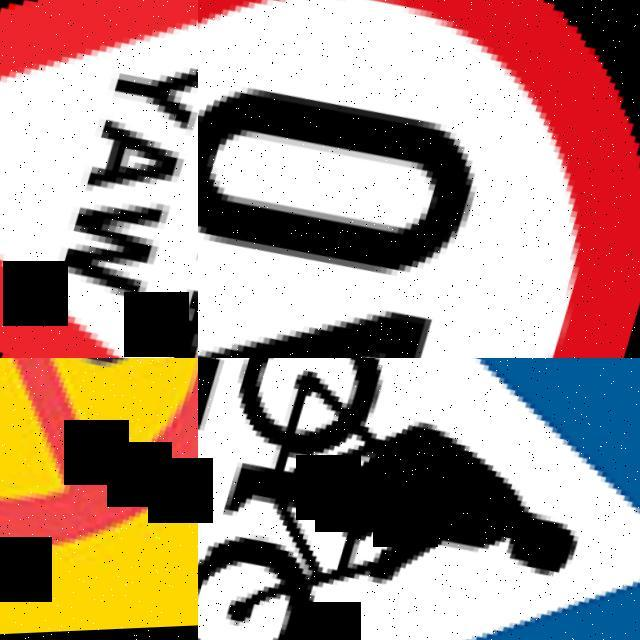19: (198, 358, 640, 640)
82: (0, 358, 198, 640)
speed limit-70: (198, 0, 640, 358)
